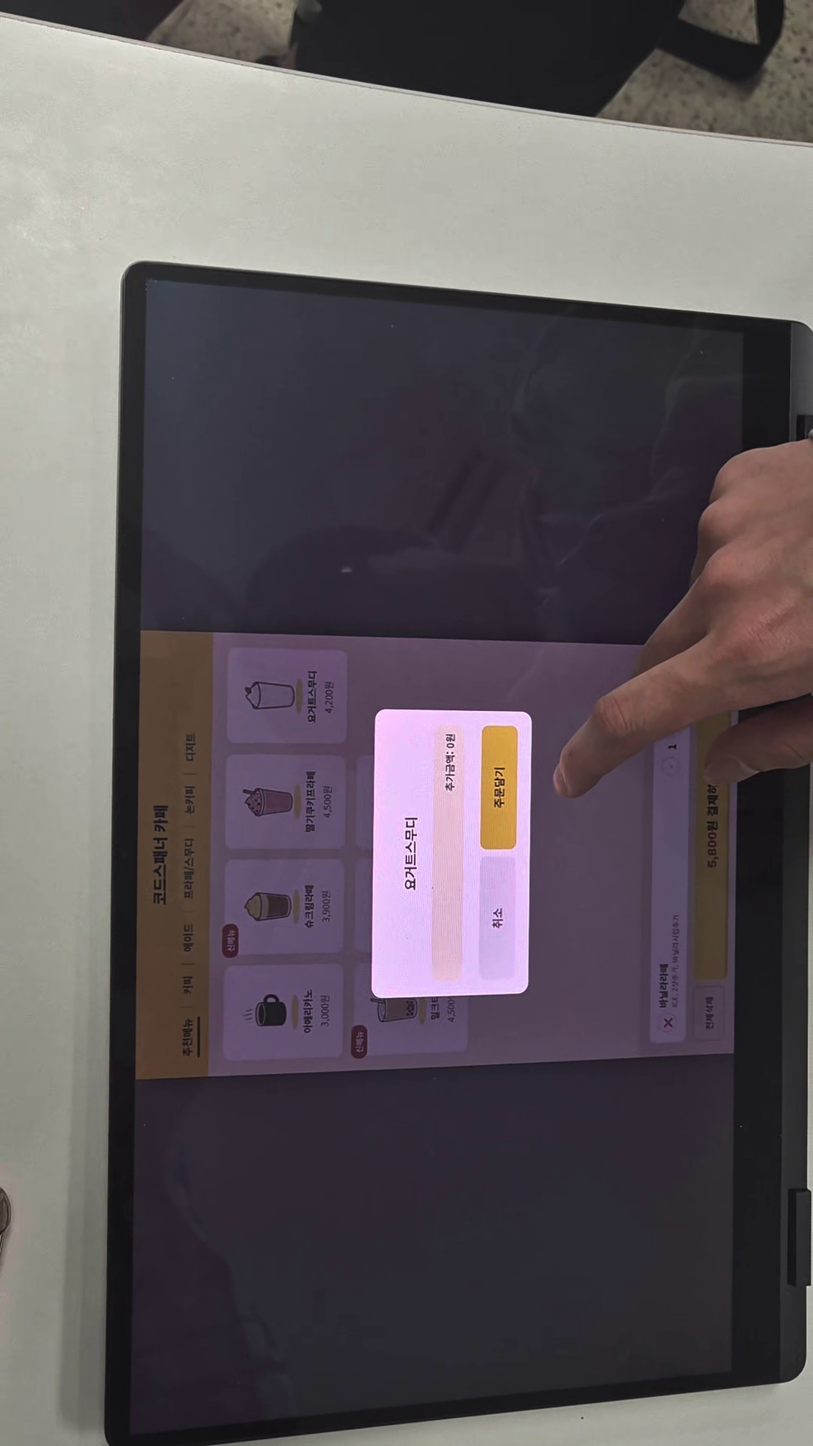action_button: (480, 725, 516, 850), (480, 855, 516, 980)
popup_modal: (371, 709, 531, 996)
